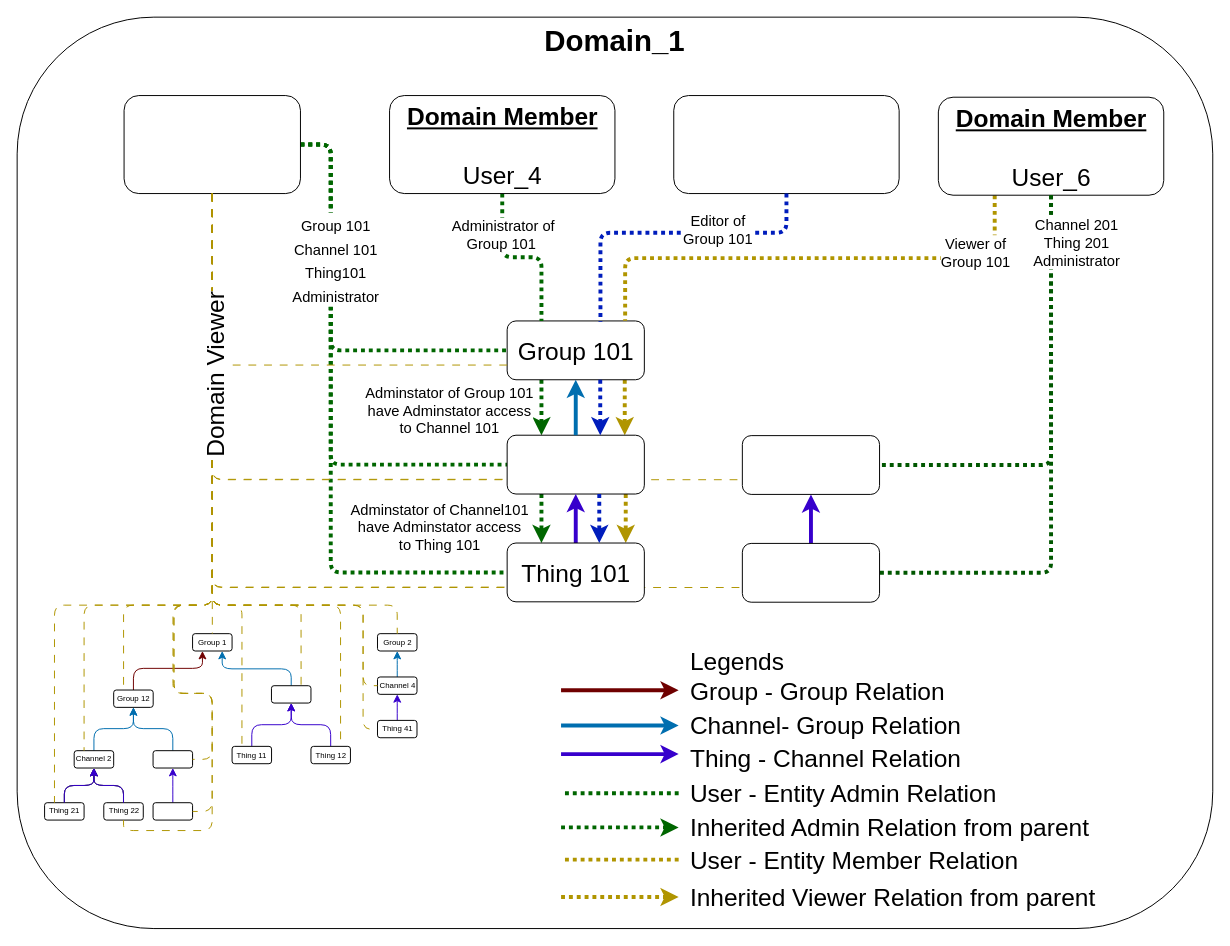
Some shapes in this 1230 by 946 pixel diagram are drawn without their labels. The centre of each missing label's shape, as x and y in pixels:
"Channel 1" belongs at [290,694].
"Channel 101" belongs at [575,464].
"Channel 201" belongs at [810,464].
"Channel 3" belongs at [172,759].
"Domain Member User_5" belongs at [786,144].
"Domain Viewer User_3" belongs at [211,144].
"Thing 201" belongs at [810,572].
"Thing 31" belongs at [172,811].
